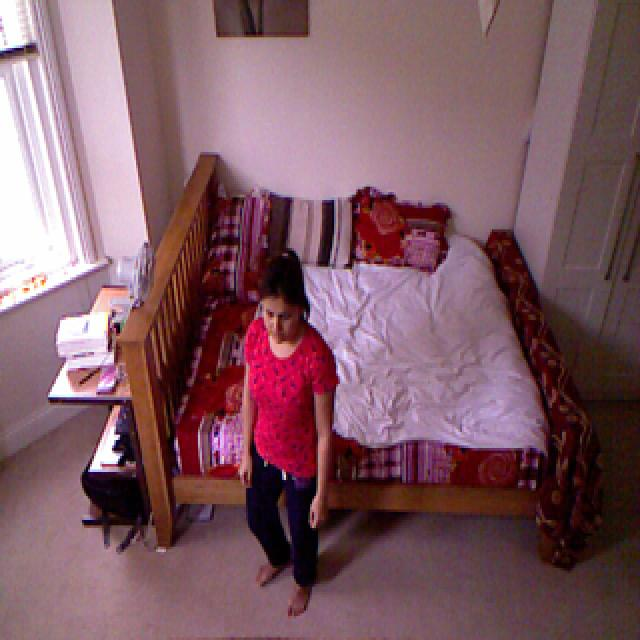standing: (244, 255, 339, 601)
